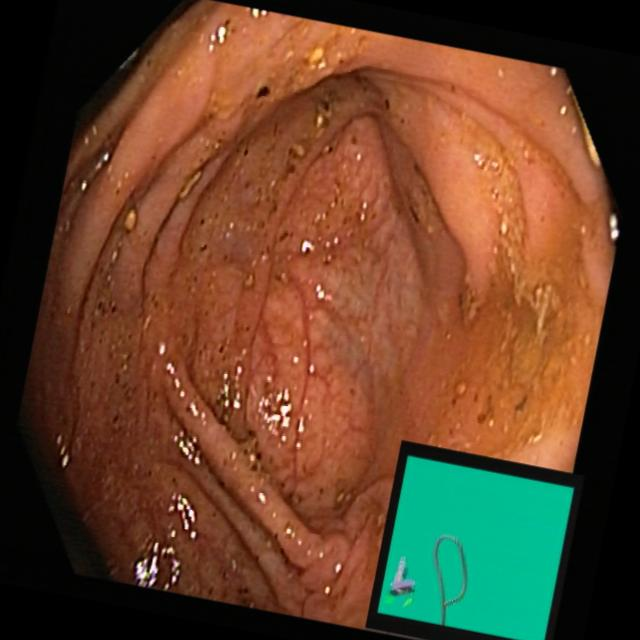normal-cecum: (26, 236, 284, 619), (404, 96, 606, 471), (177, 19, 372, 271), (177, 332, 343, 556)
